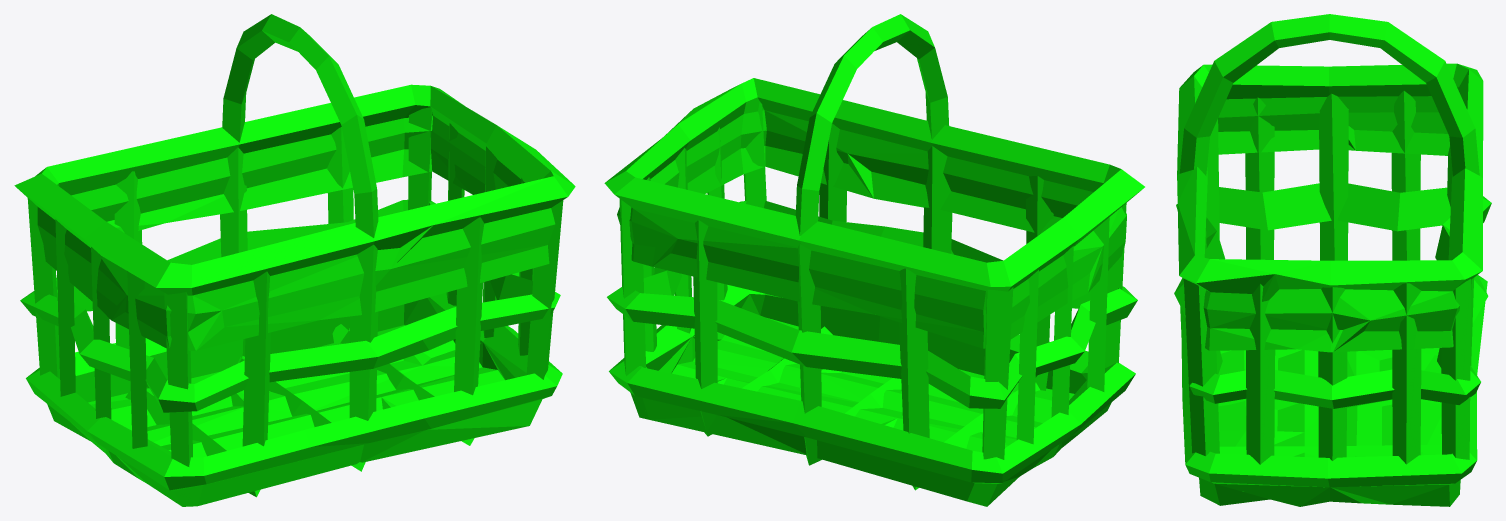
File: SM_Basket_Fantasy_A.fbx
3 views of the same model, side by side, from view 1: azimuth 30°, elevation 25°; view 2: azimuth 150°, elevation 25°; view 3: azimuth 270°, elevation 25° (orthographic). The views are drawn at different scales.
Parts seen in each view (by area): view 1: basket-fantasy-a; view 2: basket-fantasy-a; view 3: basket-fantasy-a.
Boxes of the visible parts, x1,y1,x2,y2 form: basket-fantasy-a: (14,14,575,506); basket-fantasy-a: (604,14,1144,506); basket-fantasy-a: (1174,14,1491,506).
Bounding box in the file's own units: 0.5434 × 0.4831 × 0.3412.
